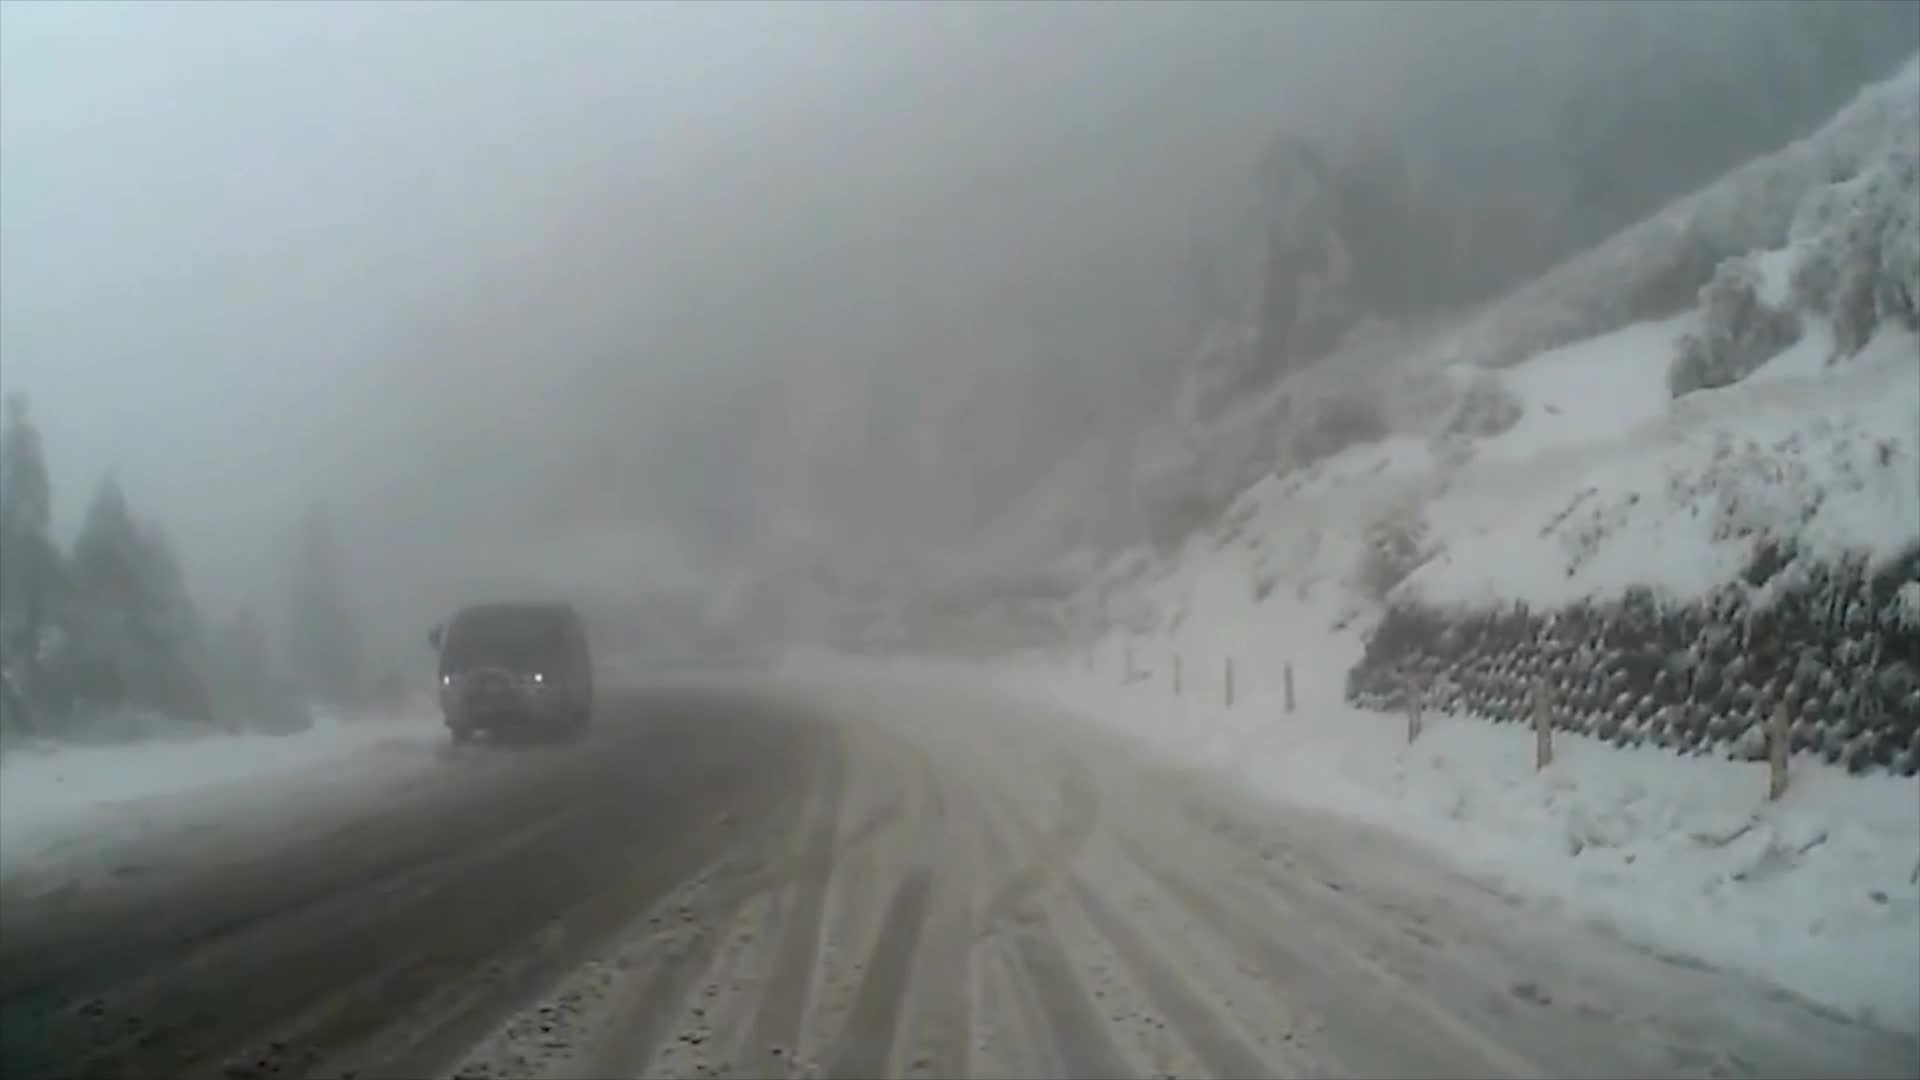vehicle: (425, 601, 592, 746)
